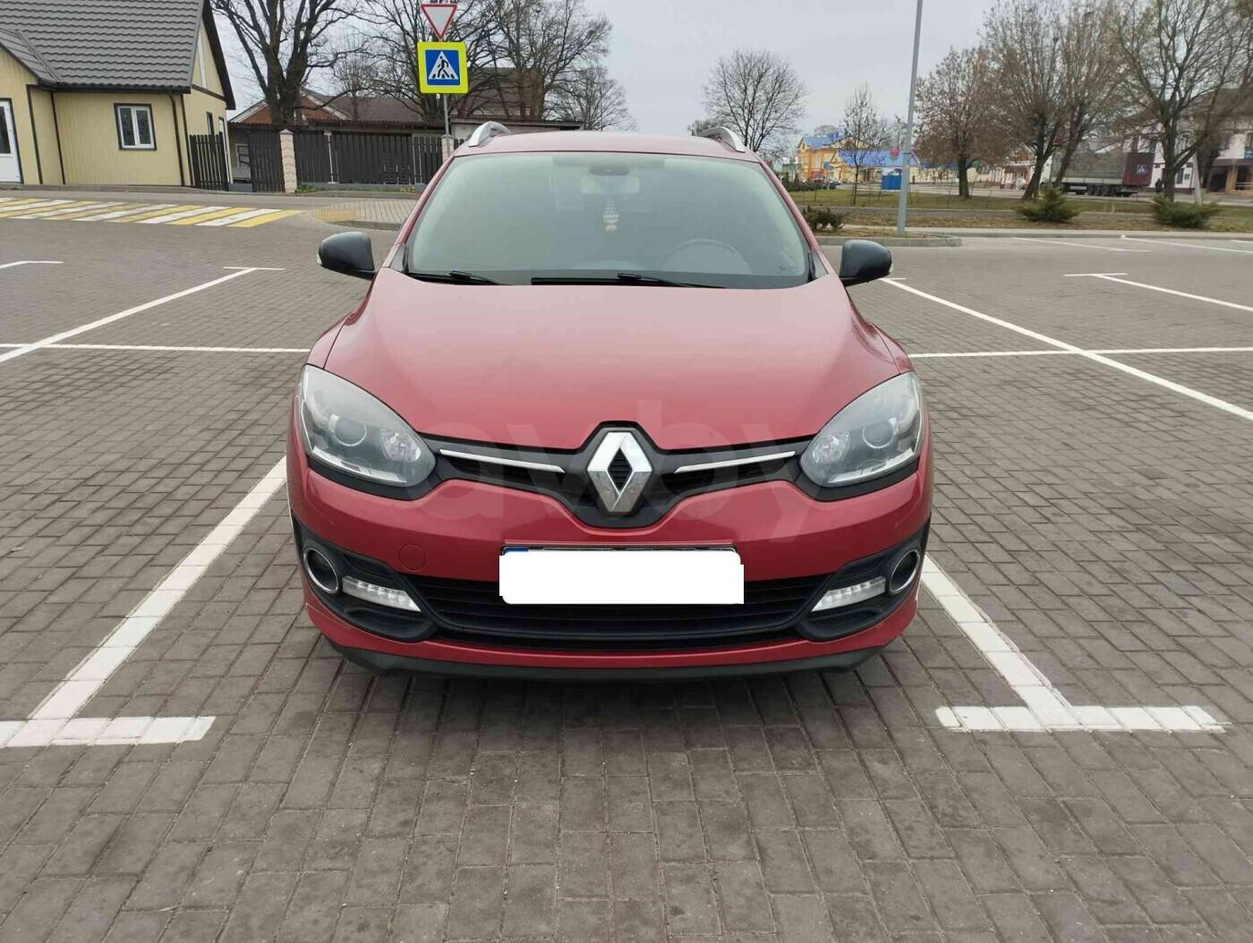Megane_2014-2016: (283, 116, 953, 693)
